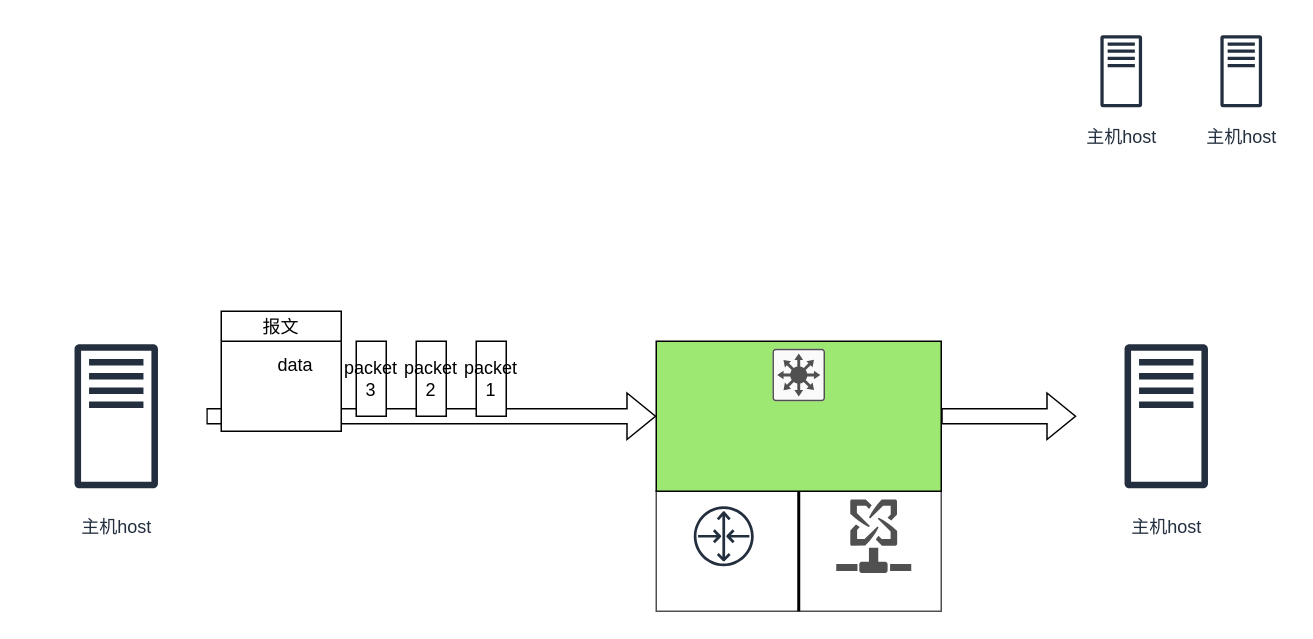
This 1313x639 diagram has some shape labels left out. The shapes that lost their labels are listed below. From the top down, each one's centre as x and y in pixels, then its label:
At point (798, 374): "分组交换机： 包括路由器和链路层交换机， 用于接收数据包并转发到接收端".
At point (723, 535): "路由器".
At point (873, 535): "链路层交换机".
